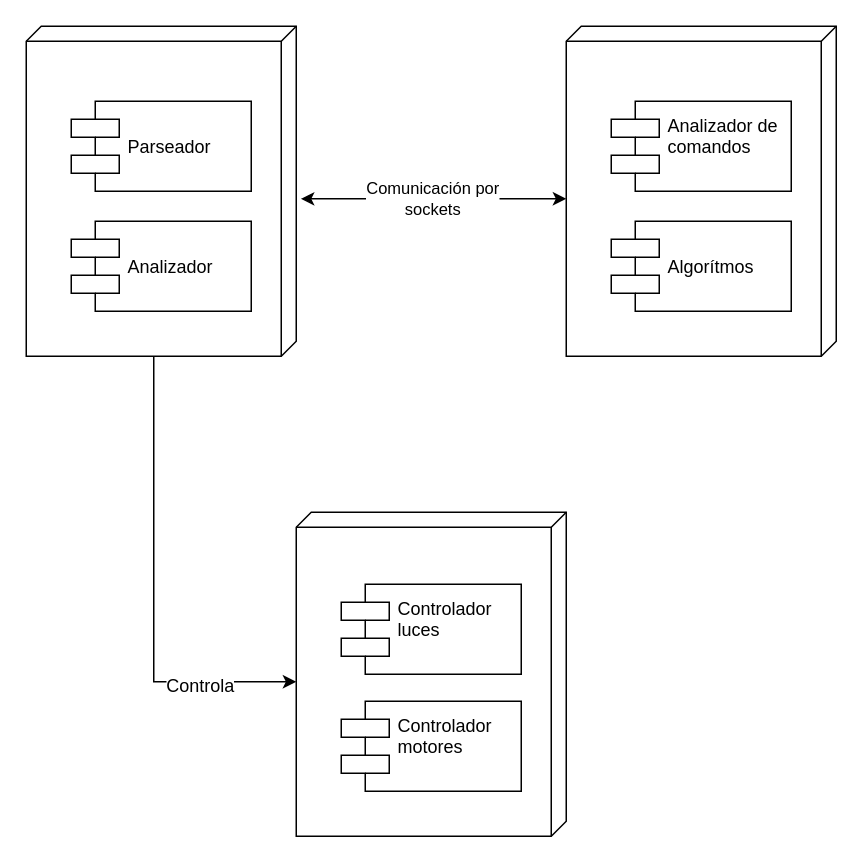
Some shapes in this 863 by 863 pixel diagram are drawn without their labels. The box of each missing label's shape, as (x1, y1, x2, y2) in pixels:
Cliente (Python-Interfaz): (565, 25, 836, 356)
Hardware (Carro): (295, 511, 566, 836)
Servidor (NodeMCU): (25, 25, 296, 356)
